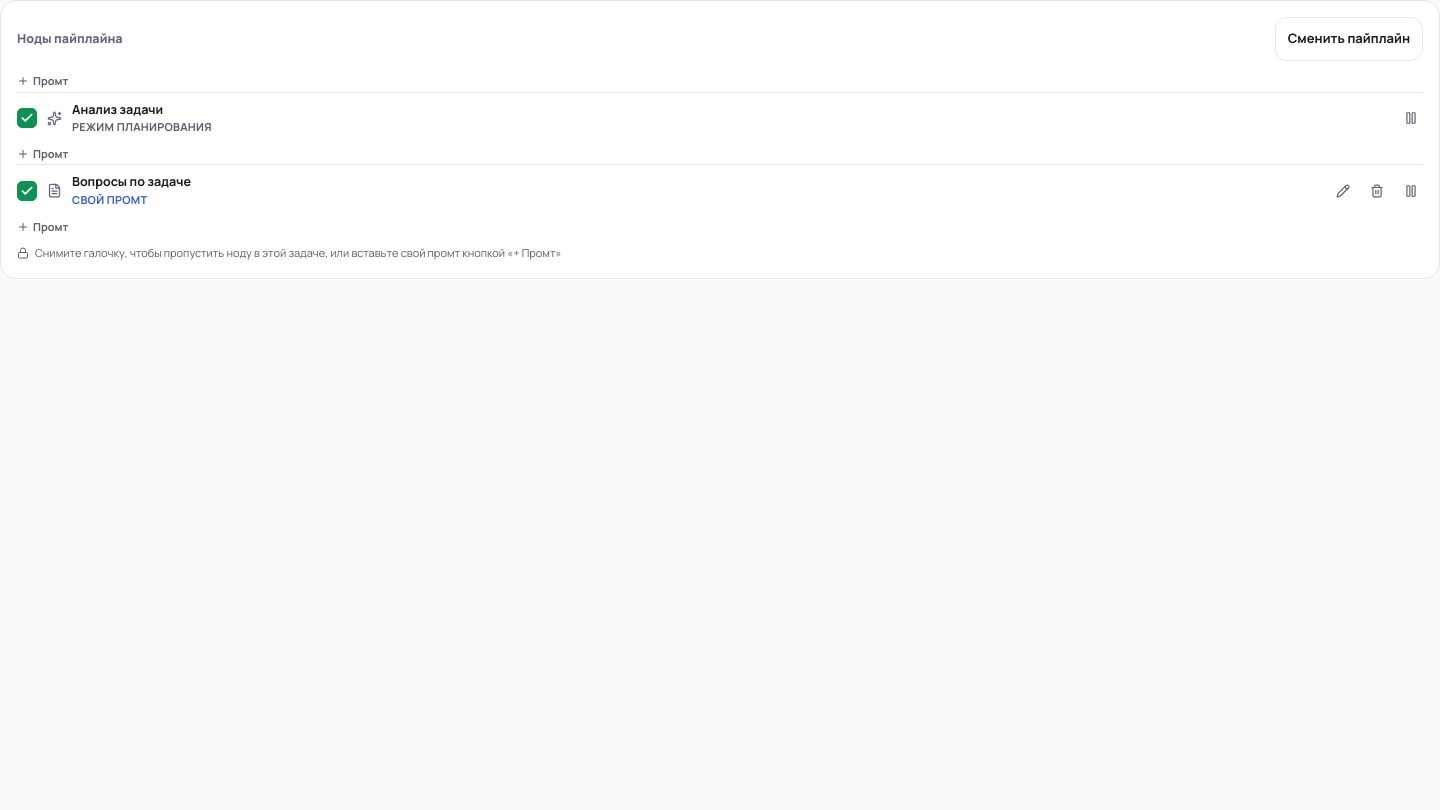
Test: TaskNodesCard › свои промты › удаление — после подтверждения
Click the button named "Удалить промт Вопросы по задаче": click(1377, 191) [1365,179,1389,203]
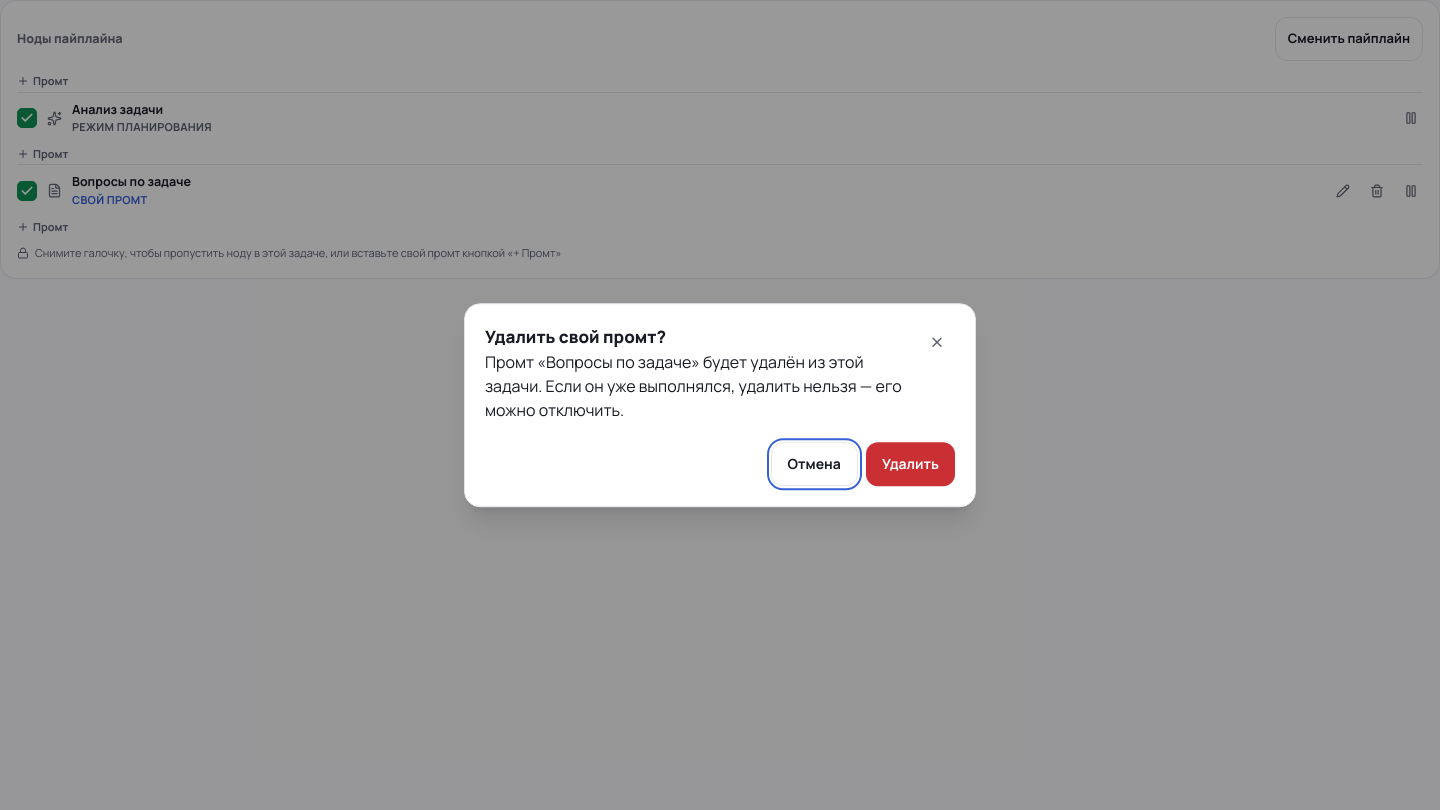
Click the button "Удалить": click(910, 464) [866,442,955,486]
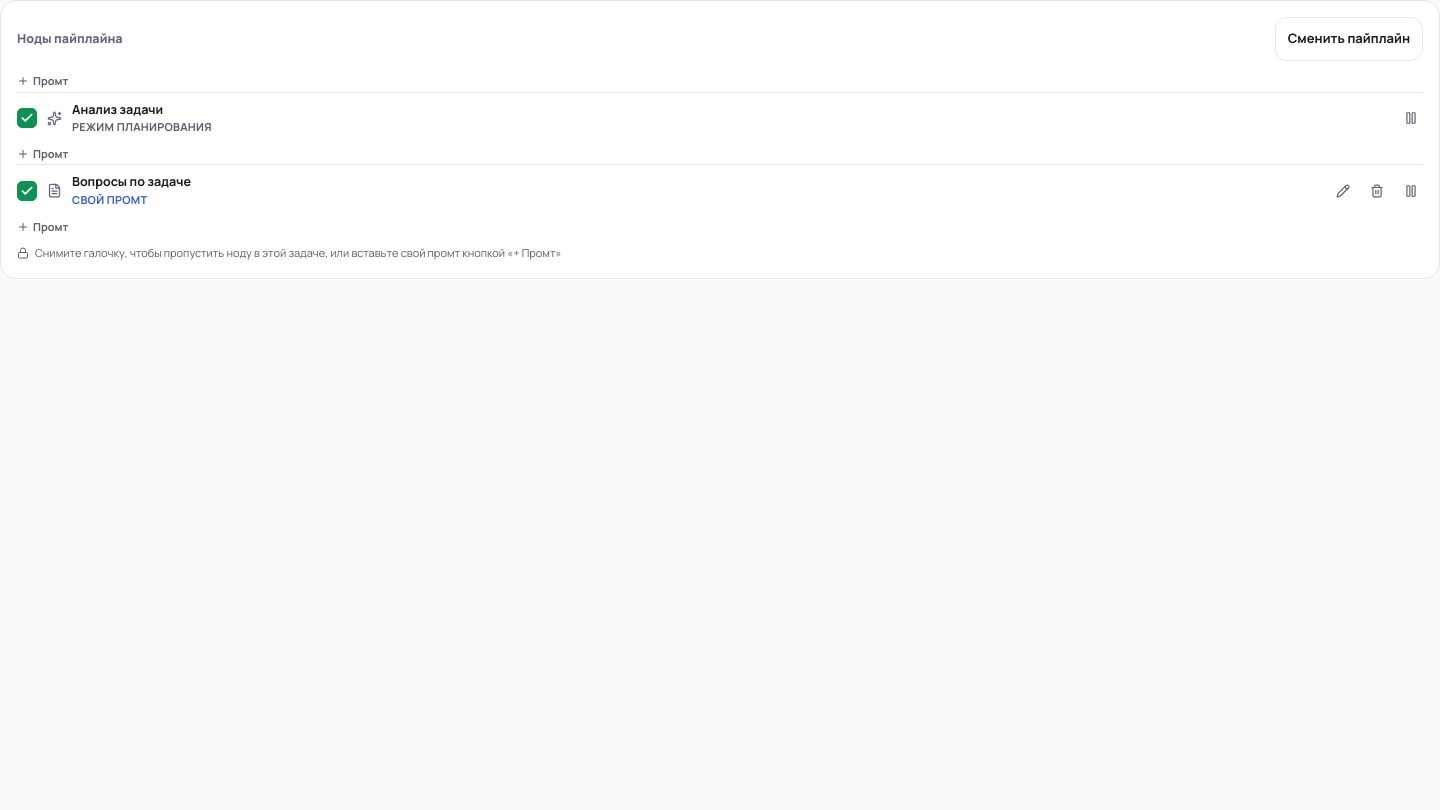
expect the dialog is gone: met
